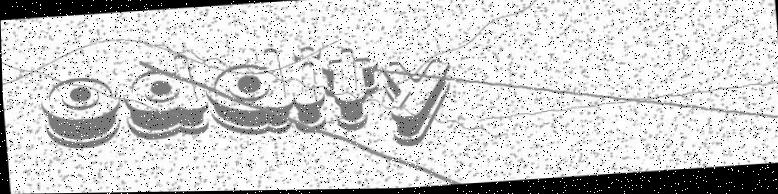d: (204, 46, 293, 140), (118, 53, 210, 143)
i: (287, 43, 328, 135)
o: (35, 73, 125, 155)
t: (316, 45, 385, 134)
y: (376, 56, 462, 151)
